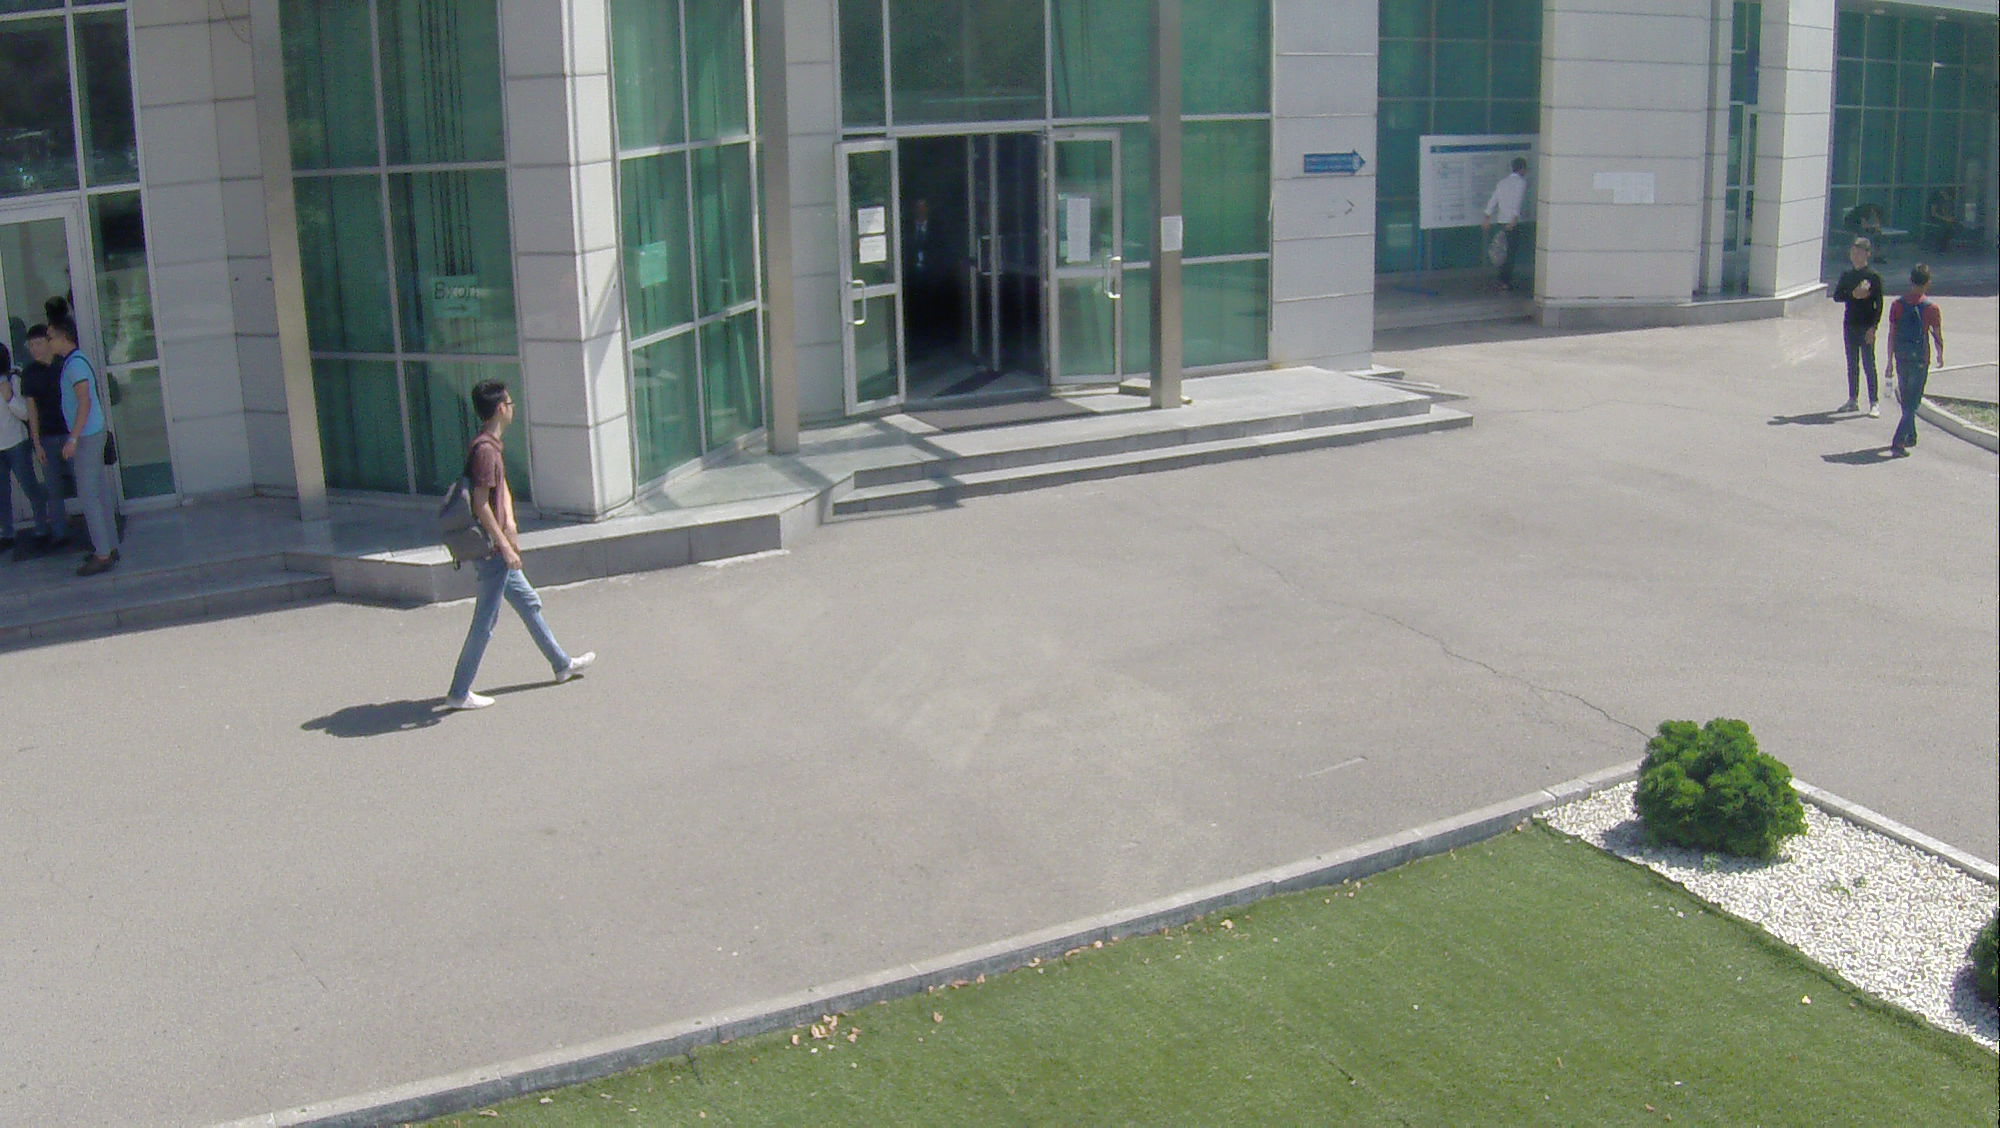person: (420, 370, 603, 727), (42, 315, 121, 576), (1874, 262, 1949, 467), (1833, 238, 1889, 420)
